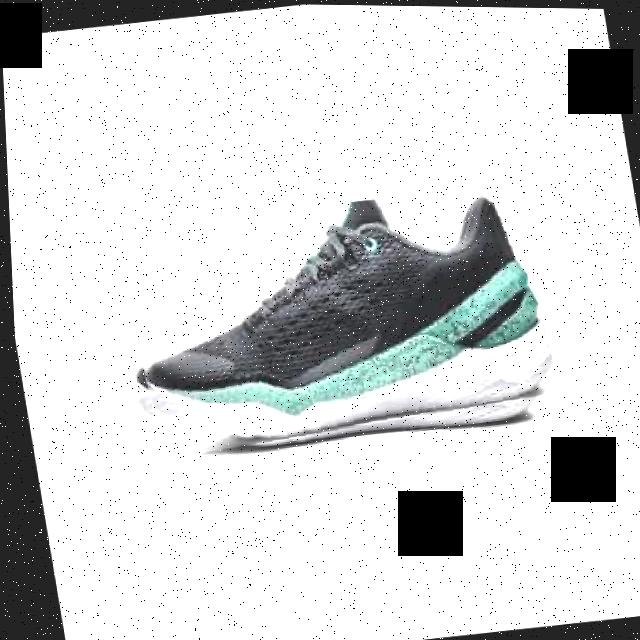shoe: (106, 177, 559, 465)
